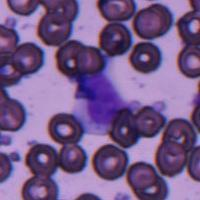M: (72, 70, 130, 134)
